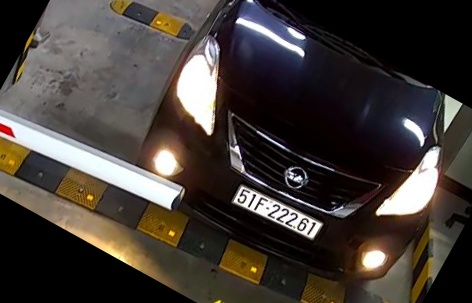plate: (229, 183, 336, 240)
